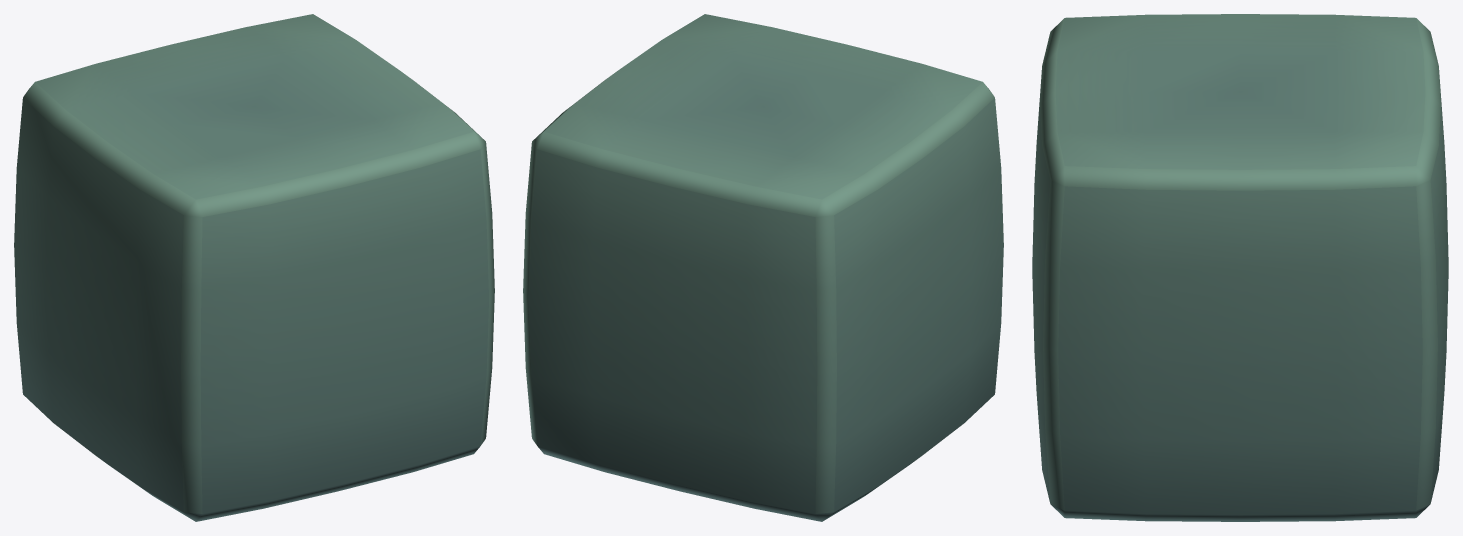
File: cube_07_shade_1_LOD_setup.fbx
3 views of the same model, side by side, from view 1: azimuth 30°, elevation 25°; view 2: azimuth 150°, elevation 25°; view 3: azimuth 270°, elevation 25° (orthographic). The views are drawn at different scales.
Parts seen in each view (by area): view 1: cube_07_shade_1_LOD0; view 2: cube_07_shade_1_LOD0; view 3: cube_07_shade_1_LOD0.
Boxes of the visible parts, x1,y1,x2,y2 form: cube_07_shade_1_LOD0: (14, 14, 494, 521); cube_07_shade_1_LOD0: (523, 14, 1003, 521); cube_07_shade_1_LOD0: (1032, 14, 1448, 521).
Size of what is drawn, in the model's own units: 224 by 208 by 223.
